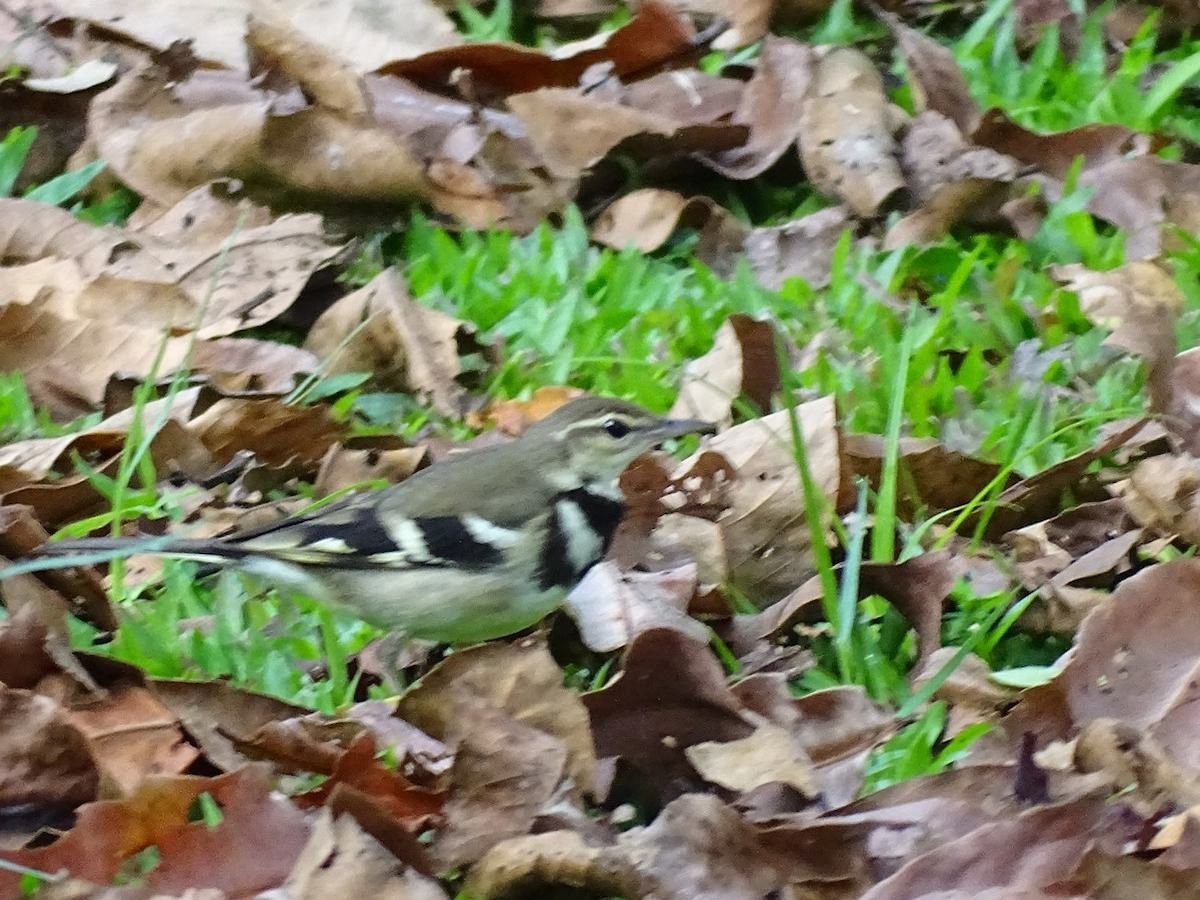wagtail: (214, 413, 681, 647)
